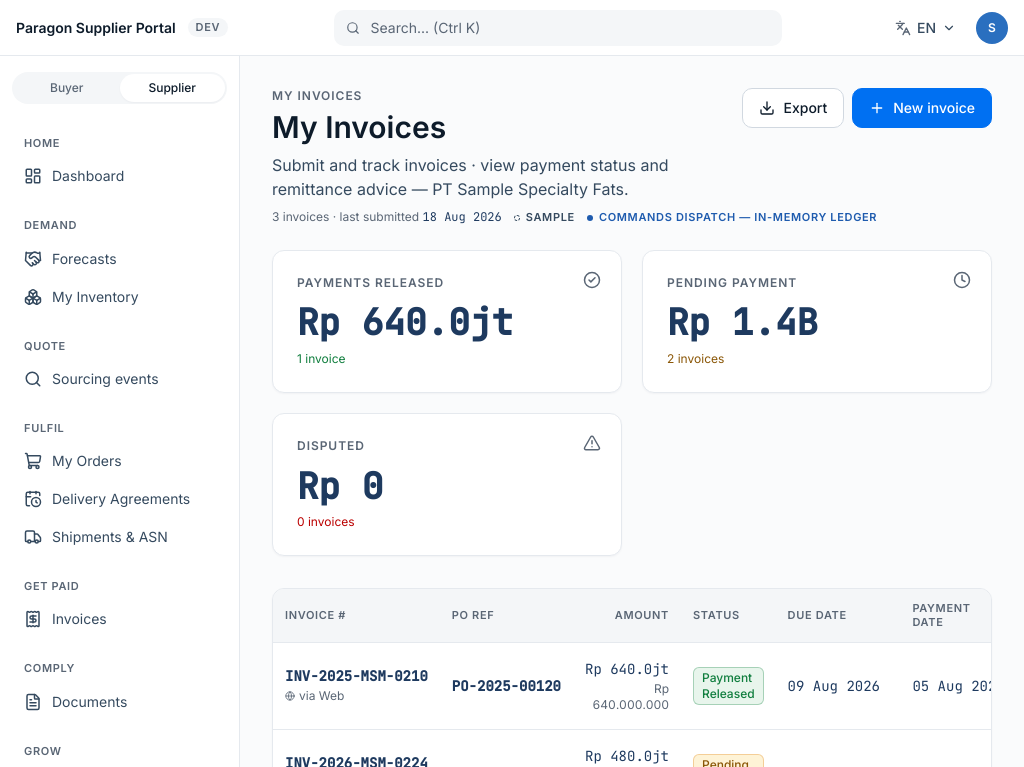
Test: SupplierInvoices — the new invoice opens on the order's lines (E2E-2) › no order chosen: no lines, no amount field, and the create is held
Expected: the heading "My Invoices" is shown, [272, 109, 446, 145]
Click the button "New invoice" at [922, 108], box [852, 88, 992, 128]
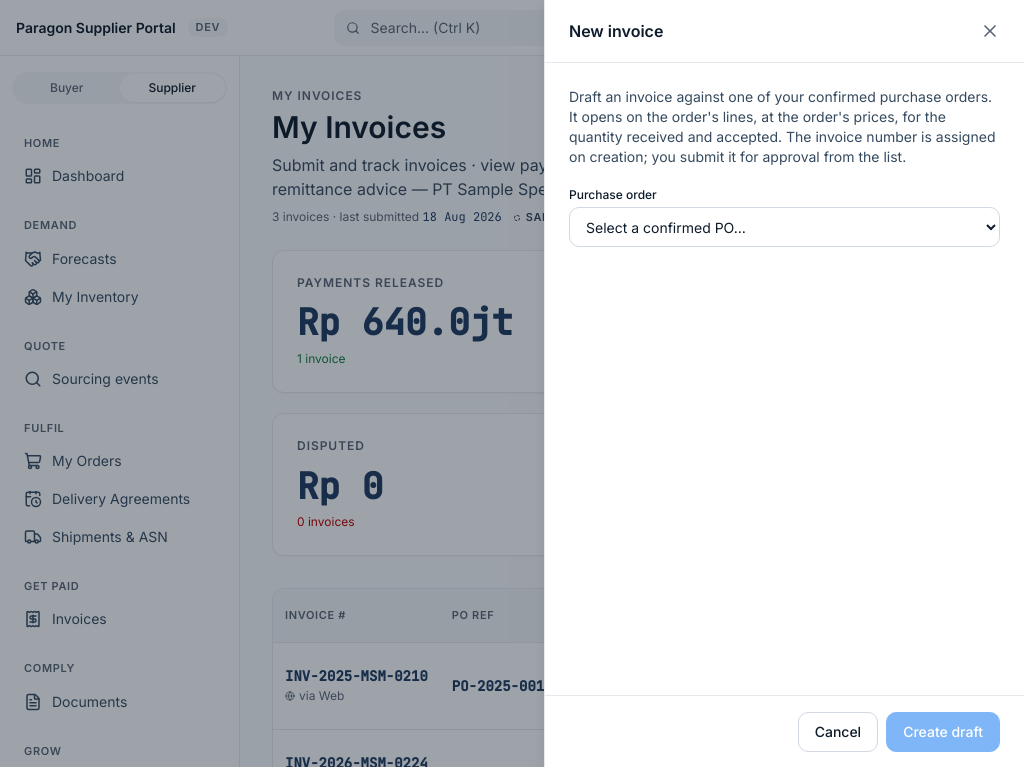
Now the dropdown labelled "Purchase order" is shown, box [569, 207, 1000, 247]
Now the button "Create draft" is disabled, box [886, 712, 1000, 752]
